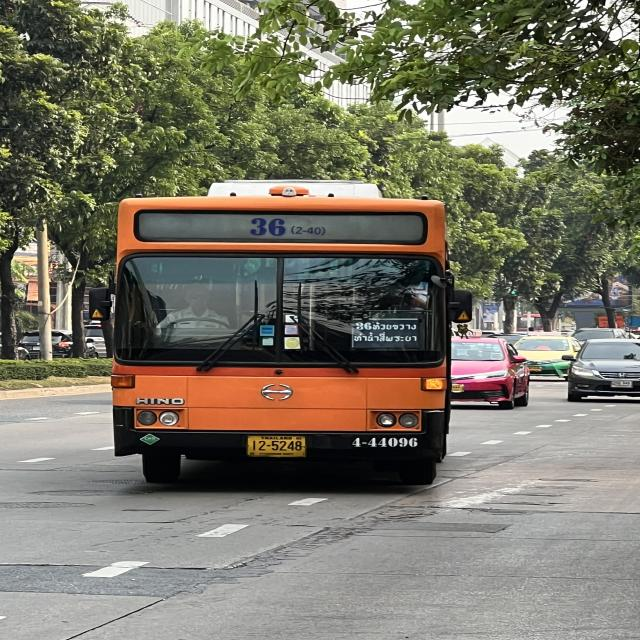BMTA-bus: (83, 171, 478, 498)
Bus-Line-Number: (244, 213, 334, 239)
Destination-Sign-Normal: (350, 317, 423, 351)
